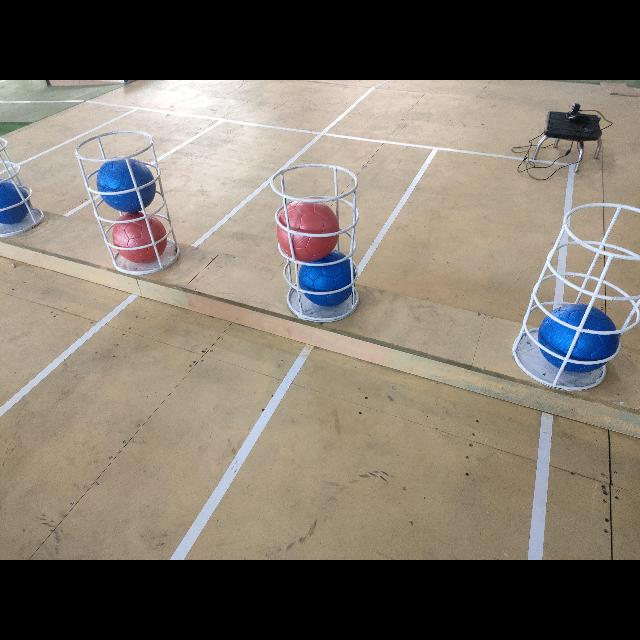B: (540, 304, 618, 371), (299, 251, 355, 307), (98, 158, 154, 208), (0, 176, 30, 224)
R: (278, 200, 338, 262), (114, 210, 166, 262)
